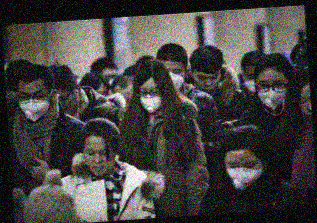with_mask: (224, 157, 263, 192), (19, 86, 52, 121), (257, 76, 288, 109), (138, 83, 164, 112), (165, 65, 186, 89), (242, 70, 257, 93)
without_mask: (83, 144, 116, 176), (192, 69, 222, 92), (57, 91, 80, 115), (298, 92, 311, 123)
